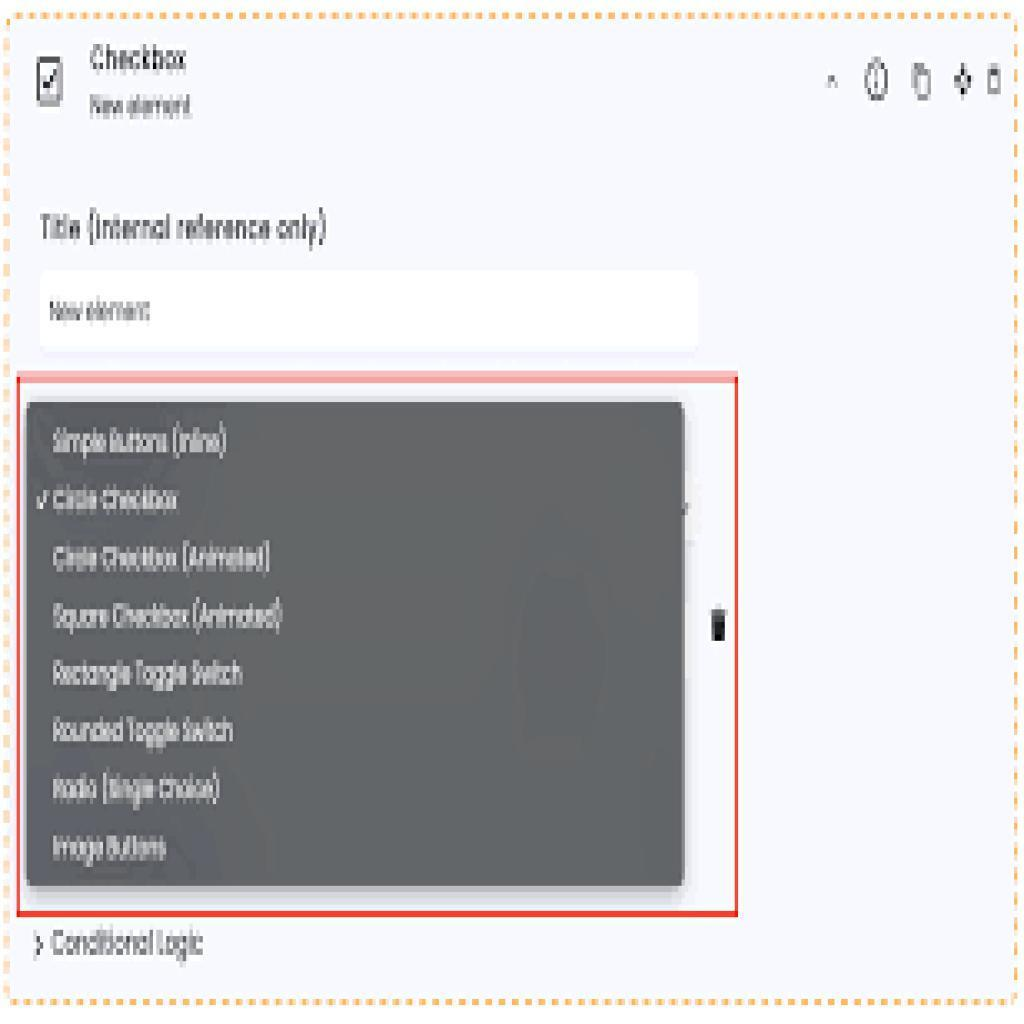checkbox: (37, 59, 67, 108)
icon: (864, 52, 892, 105), (907, 61, 939, 107), (951, 60, 979, 108), (985, 65, 1006, 101)
label: (42, 205, 333, 252), (90, 41, 195, 79)
